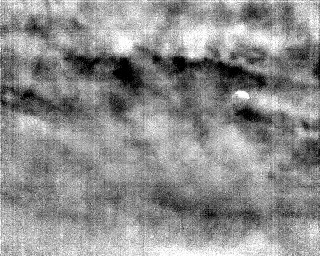BIRD: (232, 87, 252, 103)
